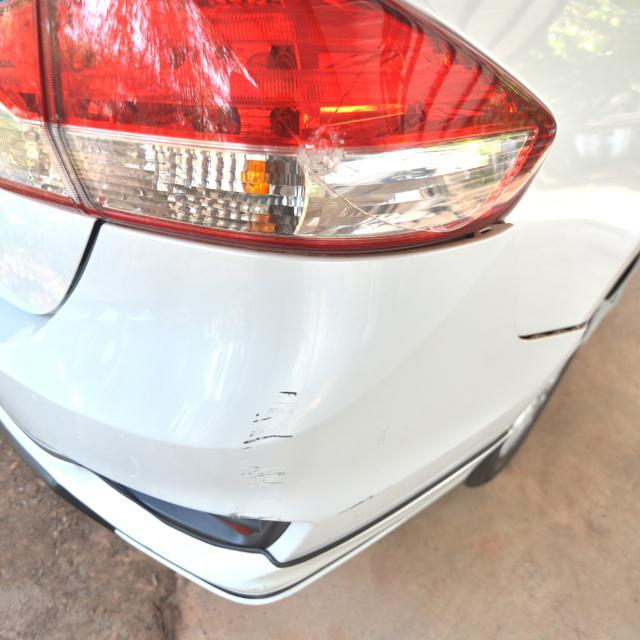lamp broken: (36, 0, 557, 254)
scratch: (232, 383, 303, 491)
